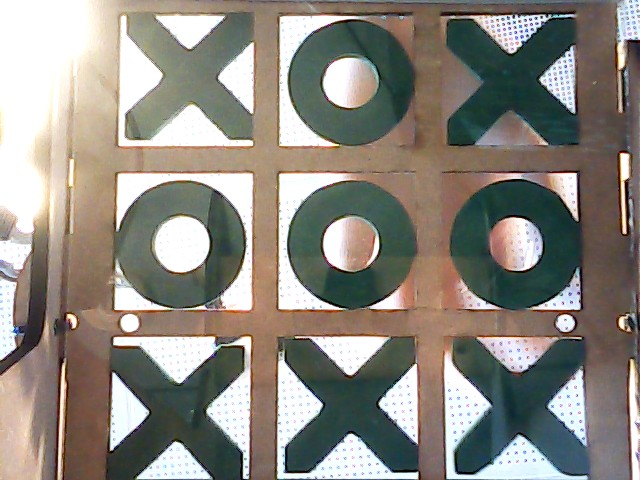O: (276, 178, 420, 312), (115, 176, 250, 308), (445, 180, 582, 308), (282, 18, 414, 145)
X: (282, 338, 423, 477), (450, 335, 588, 473), (121, 13, 253, 151), (109, 348, 246, 480), (447, 18, 582, 149)
